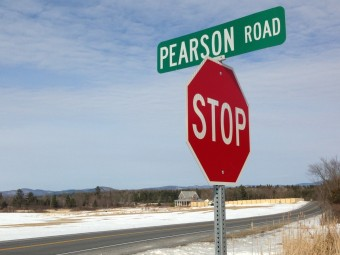SS: (182, 60, 250, 184)
